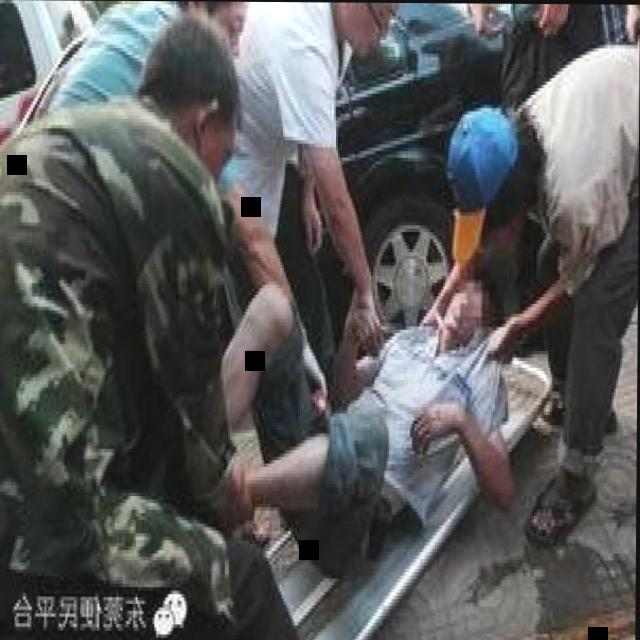Fall-Detected: (226, 224, 520, 573)
